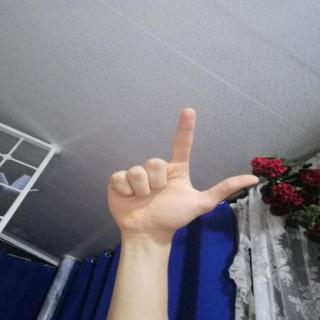LAAM: (93, 100, 272, 246)
